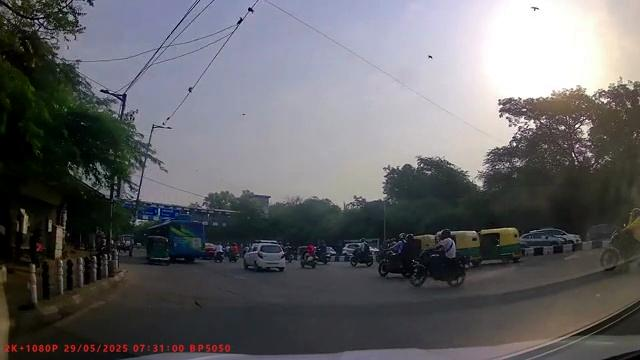motorcycle_with_helmet: (412, 227, 467, 288), (378, 231, 419, 280)
